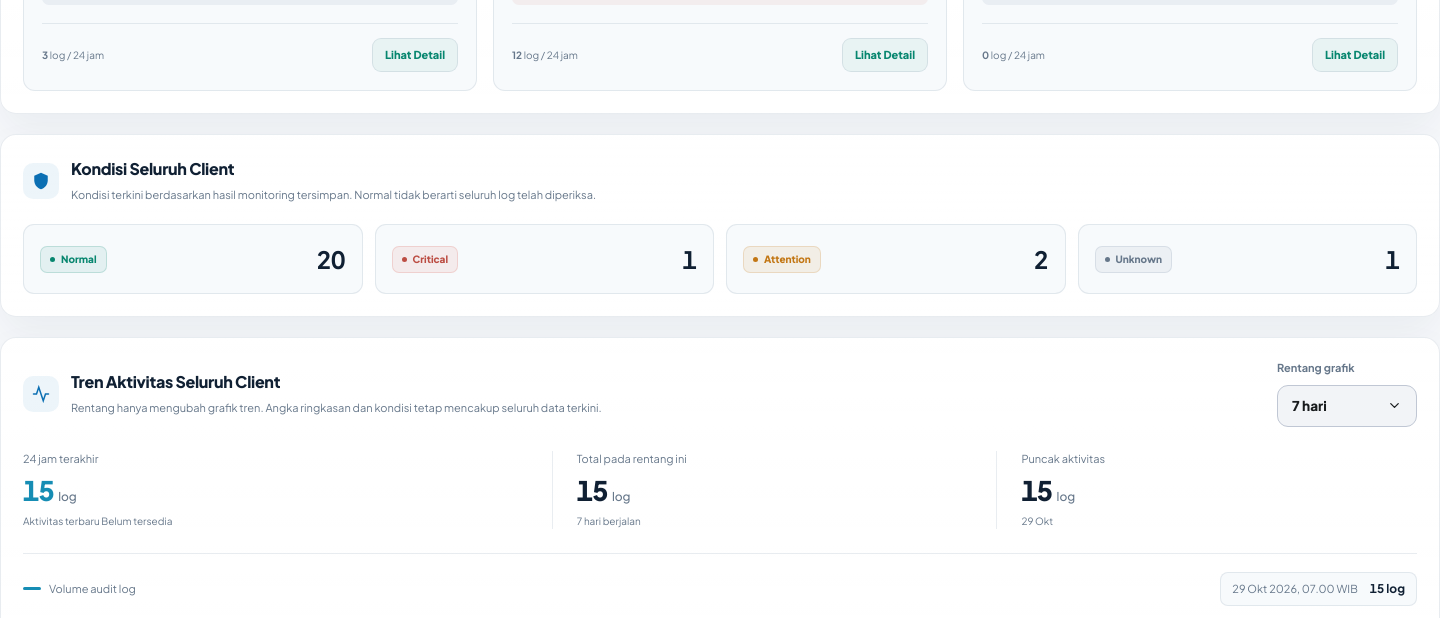
keeps global metrics and accurately labels the previous trend when a range change fails
(page scrolled)
Click the button with aria-label "Rentang grafik": x=1347, y=406 [1277,385,1417,427]
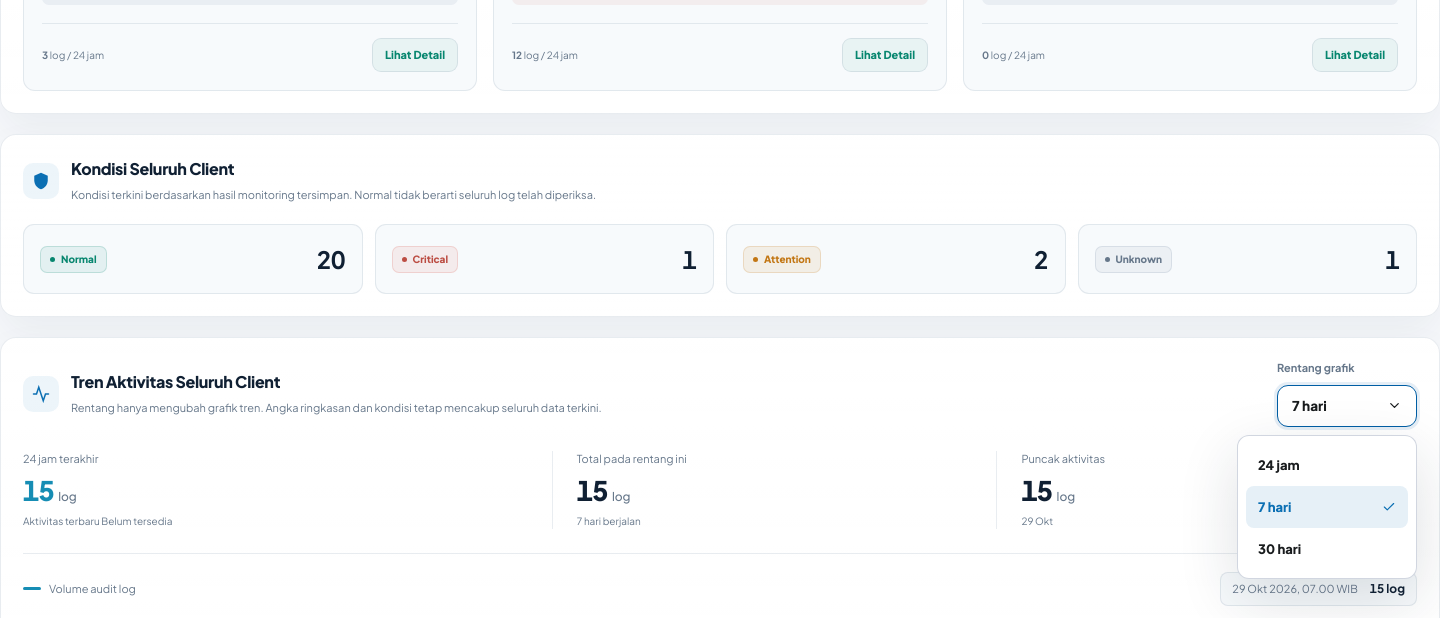
Click the option "30 hari": x=1327, y=549 [1246,528,1408,570]
(page scrolled)
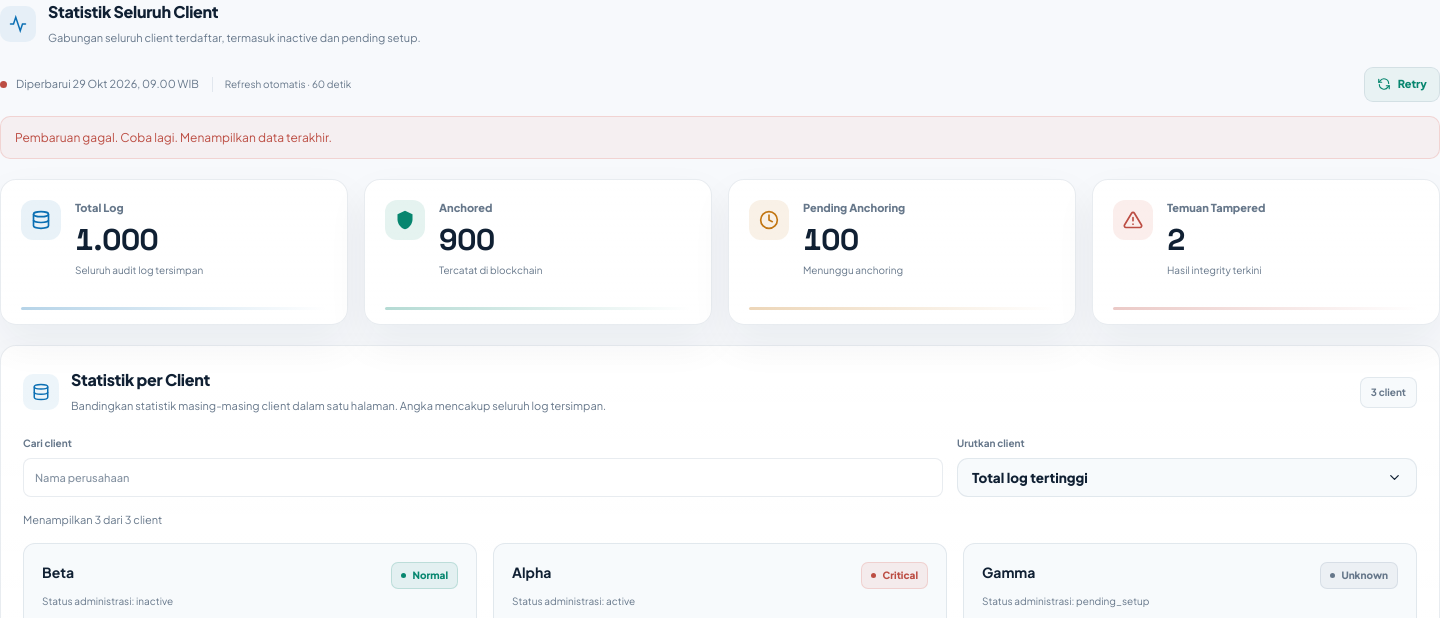
Expected: the message "Pembaruan gagal. Coba lagi. Menampilkan data terakhir." is shown, [0,116,1439,159]
Click the button "Retry": x=1402, y=84 [1364,67,1439,102]
(page scrolled)
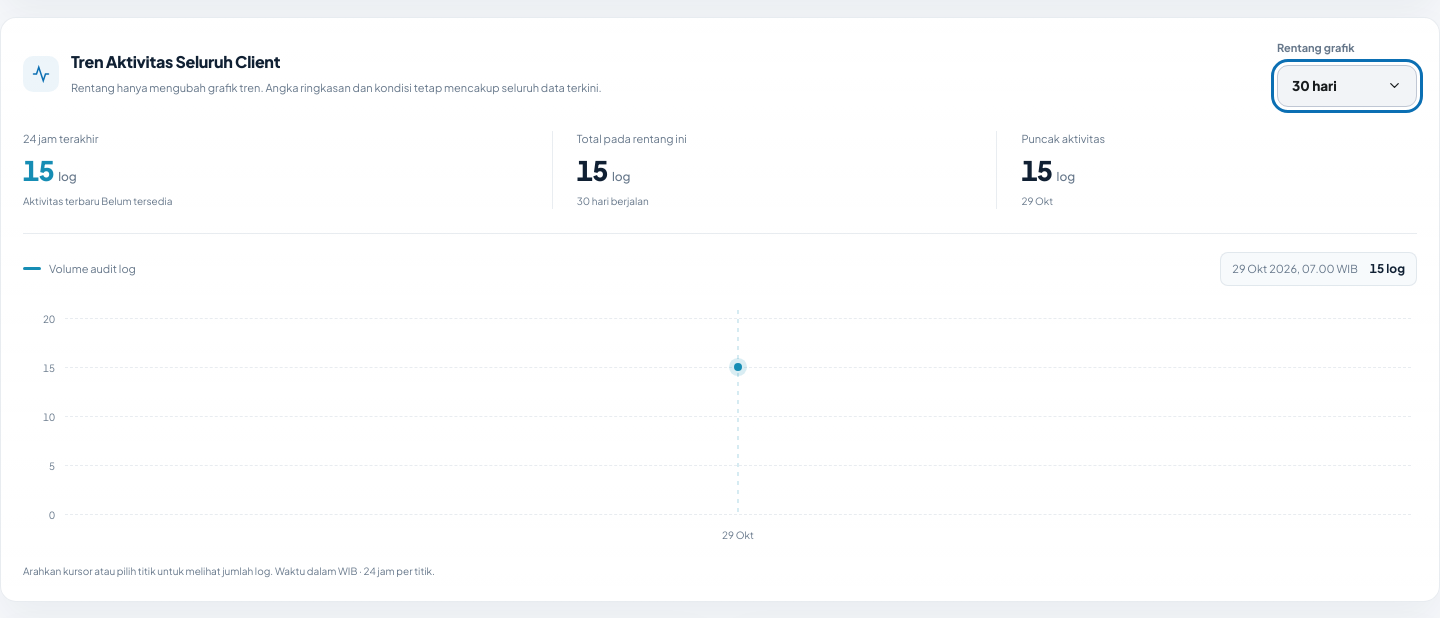
Expected: the element named "Tren aktivitas 30D" is shown, [23,233,1417,579]
